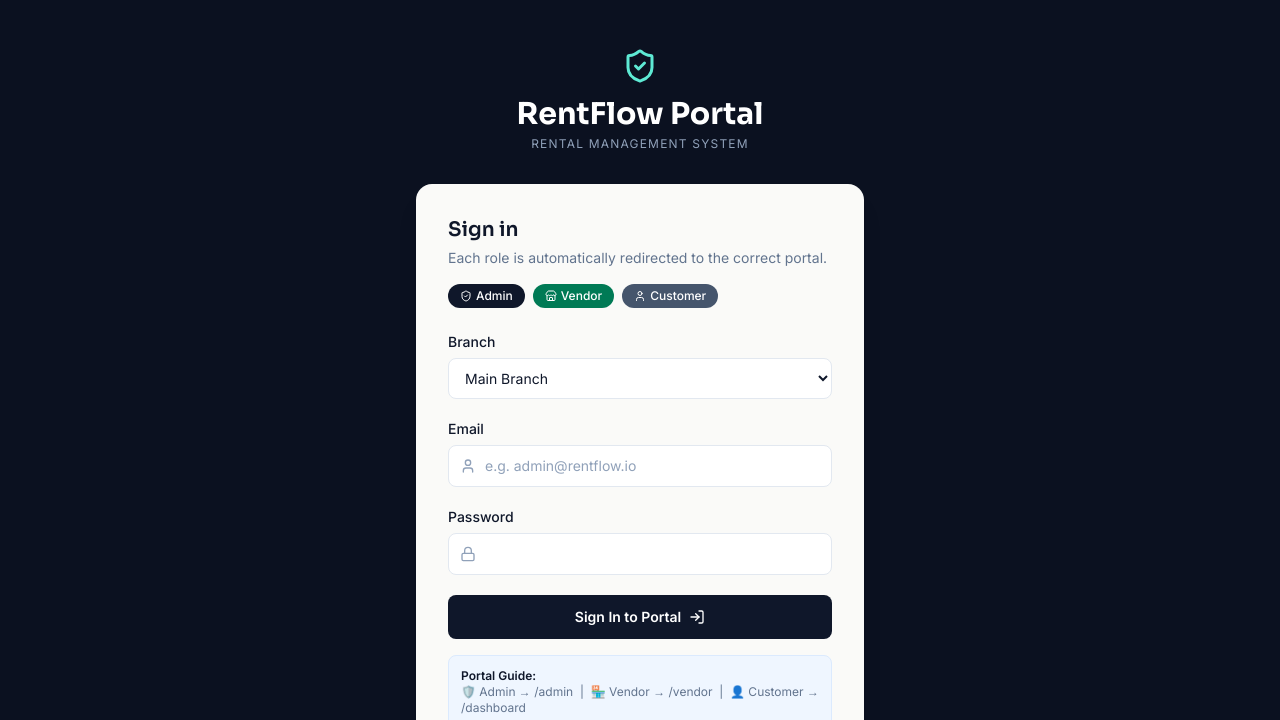
Test: Admin authentication and RBAC › can navigate to User Management and Configuration
Select "Main Branch" in the dropdown with test id "login-branch". click: [640, 379]
box: top-left (448, 358), bottom-right (832, 399)
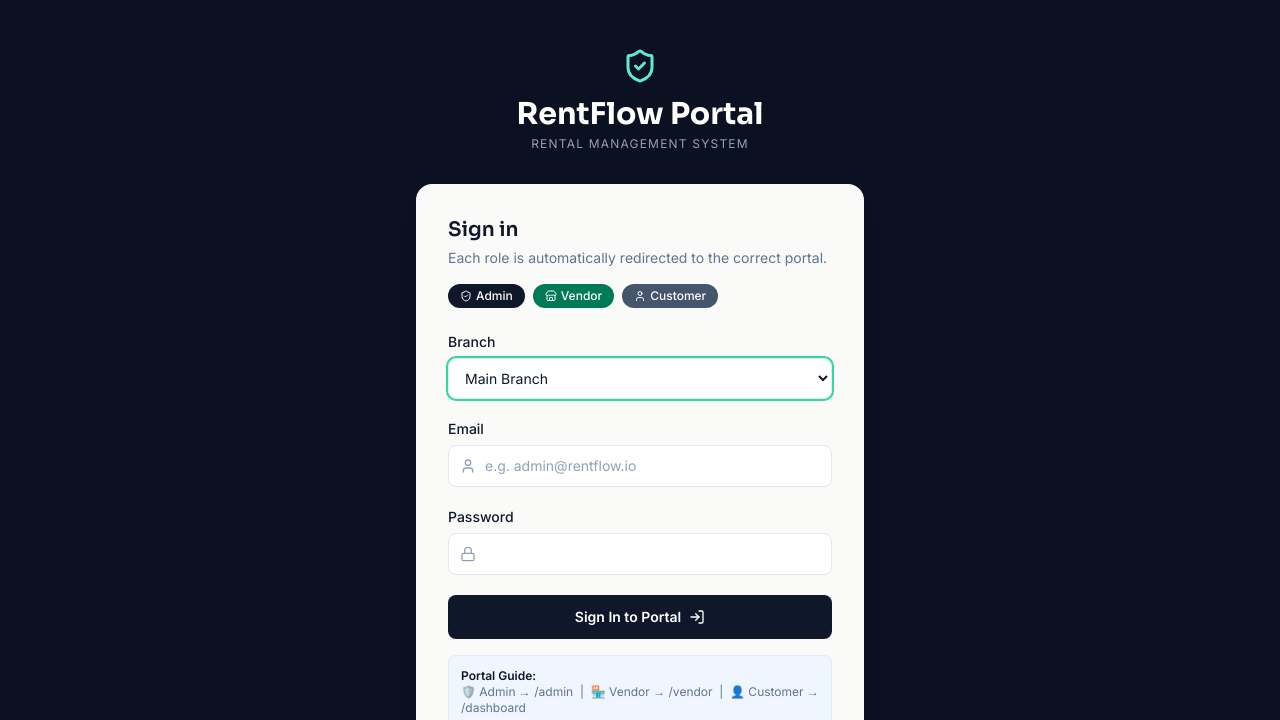
Type "admin@rentflow.io" into the field with test id "login-identifier". click: [640, 466]
box: top-left (448, 445), bottom-right (832, 487)
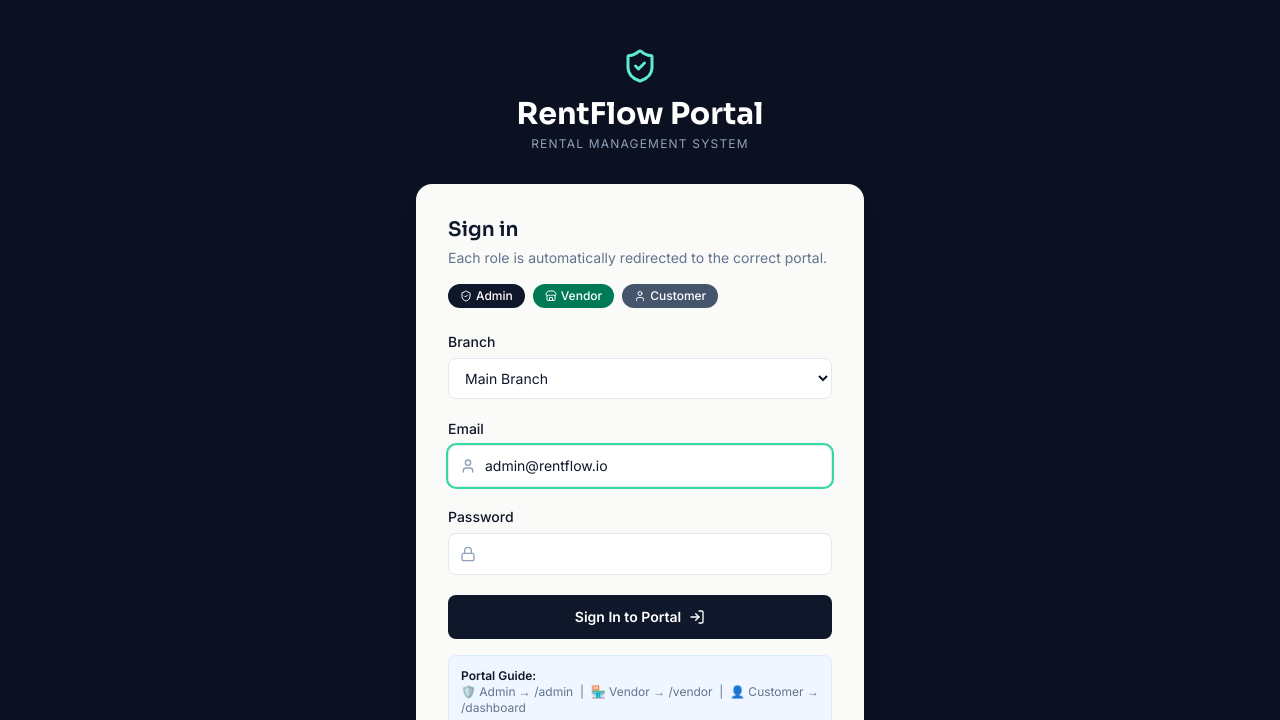
Type "admin123" into the password field with test id "login-password". click: [640, 554]
box: top-left (448, 533), bottom-right (832, 575)
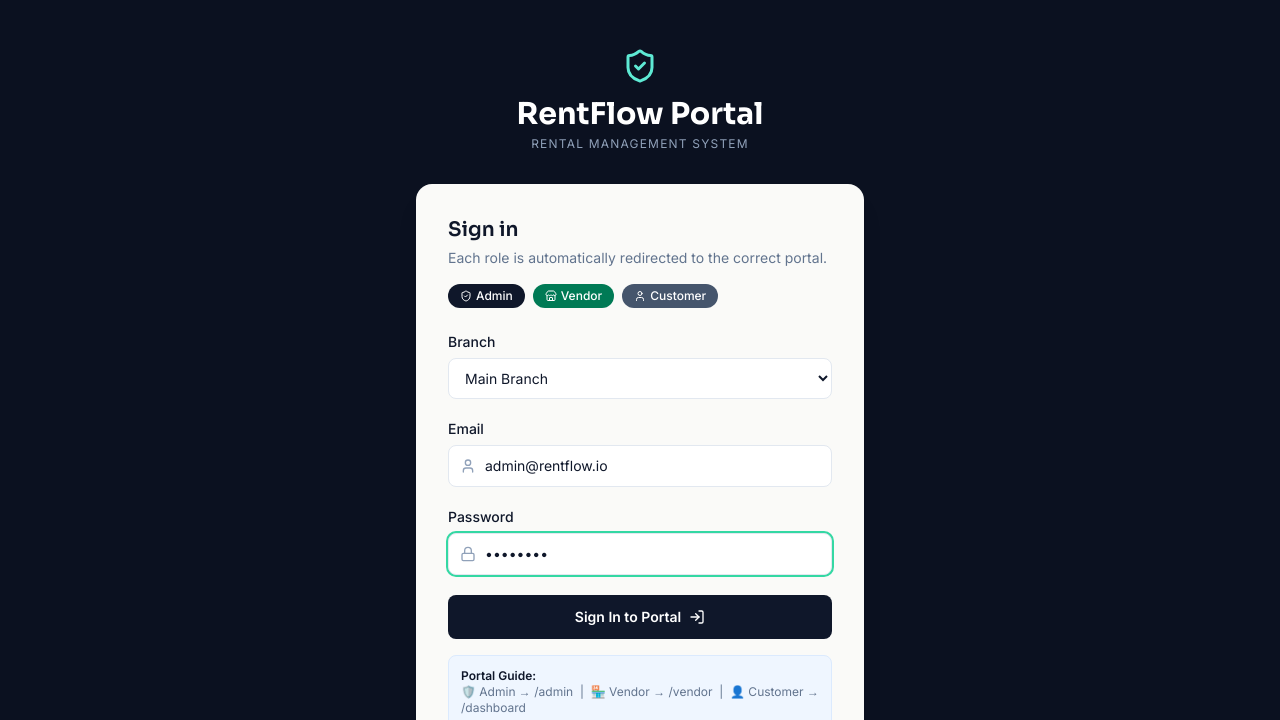
Click the button with test id "login-submit". click: [640, 617]
box: top-left (448, 595), bottom-right (832, 639)
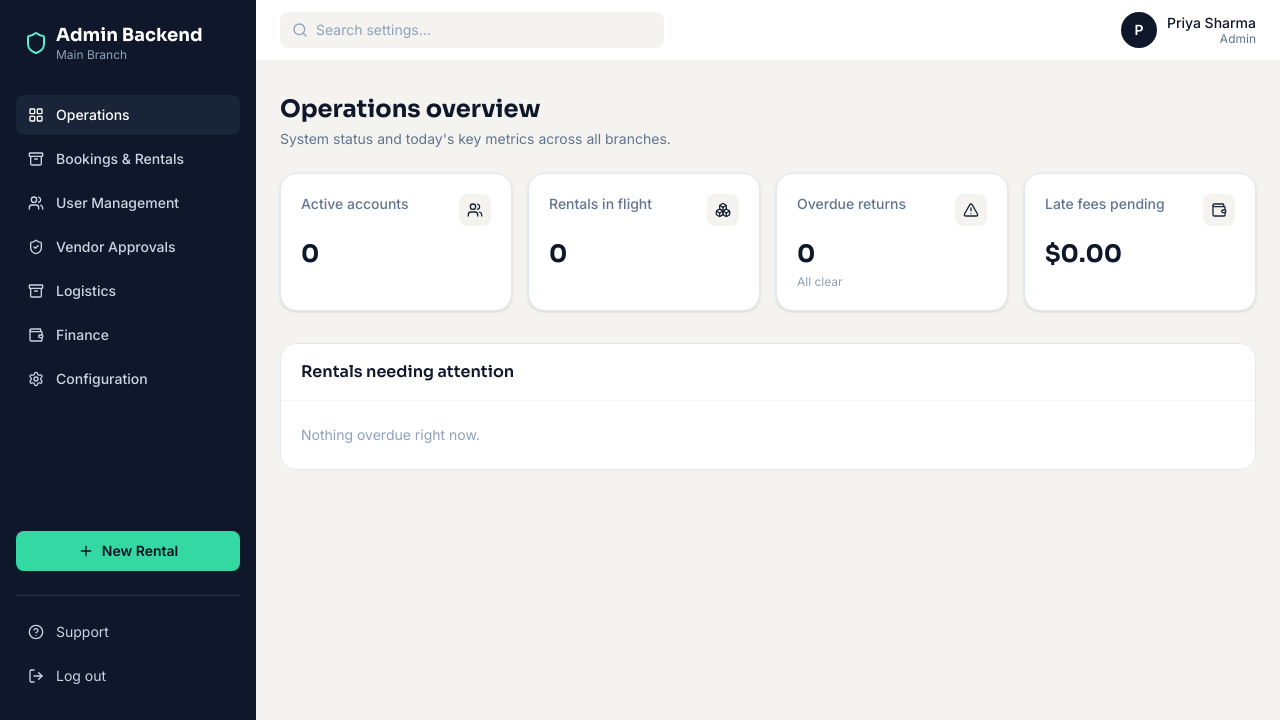
Click the link with test id "nav-admin-users". click: [104, 203]
box: top-left (28, 194), bottom-right (179, 211)
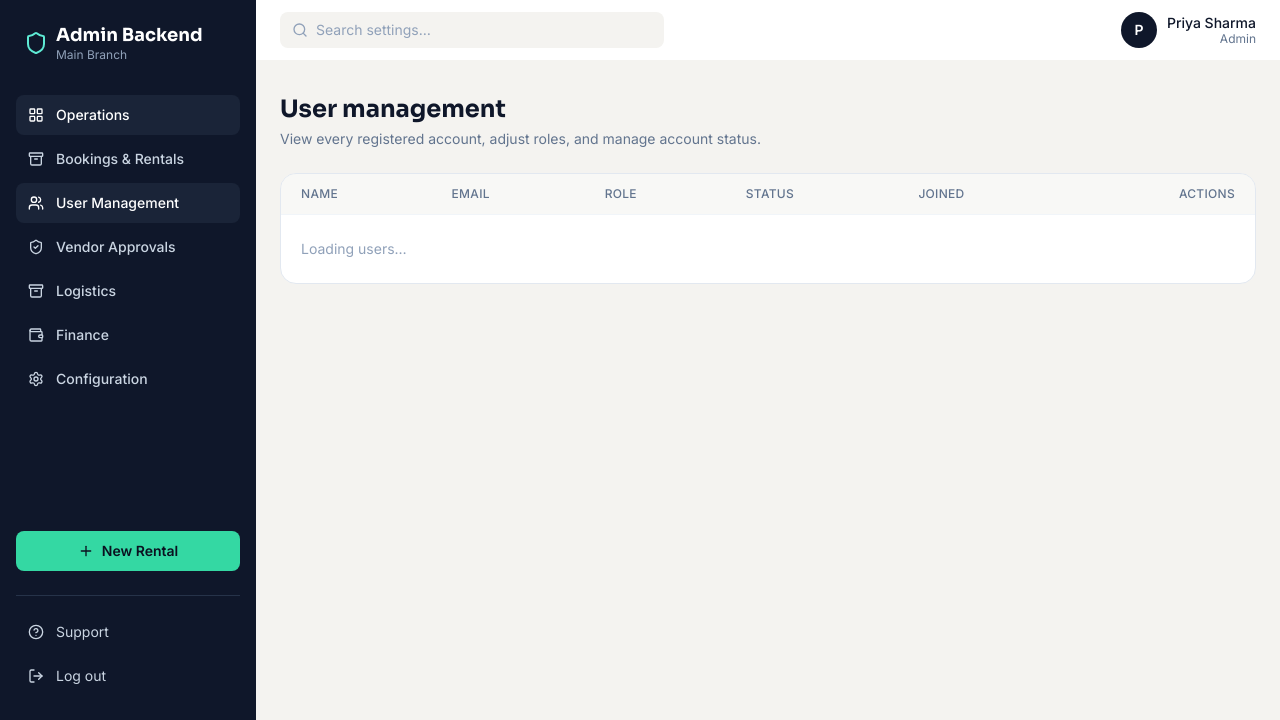
Now the table with test id "users-table" is shown, box top-left (281, 174), bottom-right (1255, 283)
Click the link with test id "nav-admin-configuration". click: [88, 379]
box: top-left (28, 370), bottom-right (148, 387)
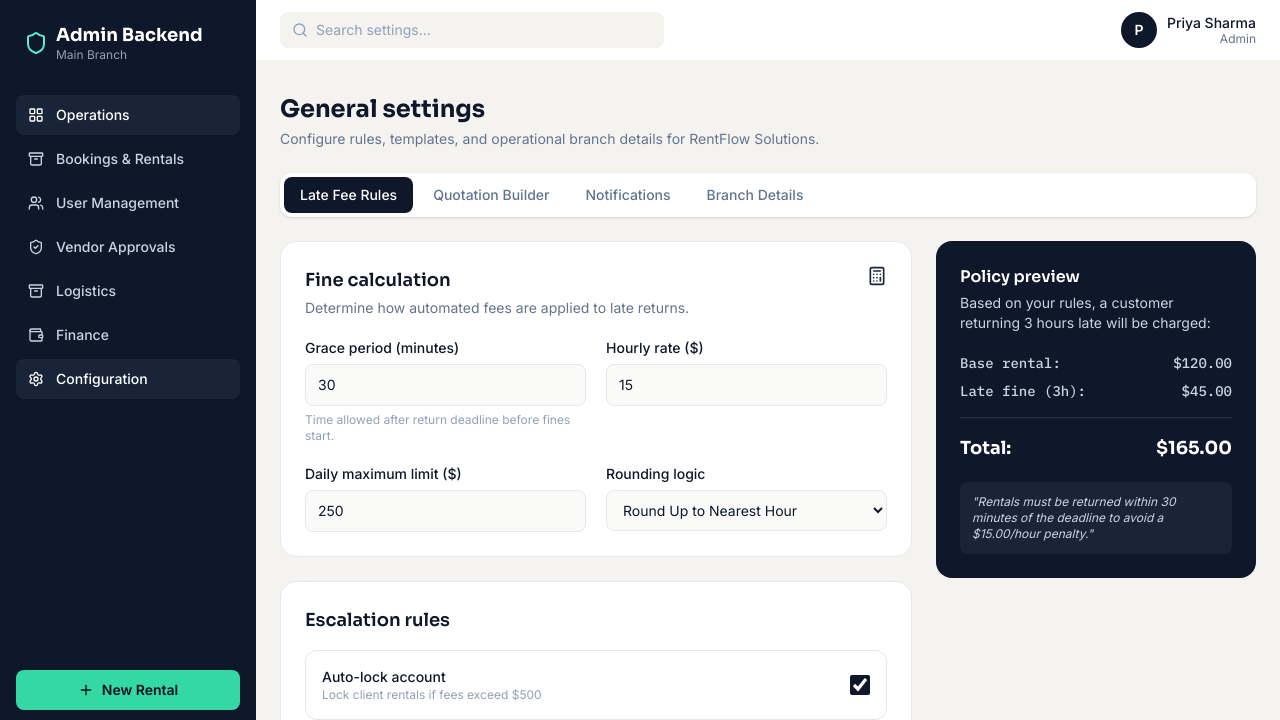
Now the number field with test id "config-hourly-rate" is shown, box top-left (606, 364), bottom-right (887, 406)
